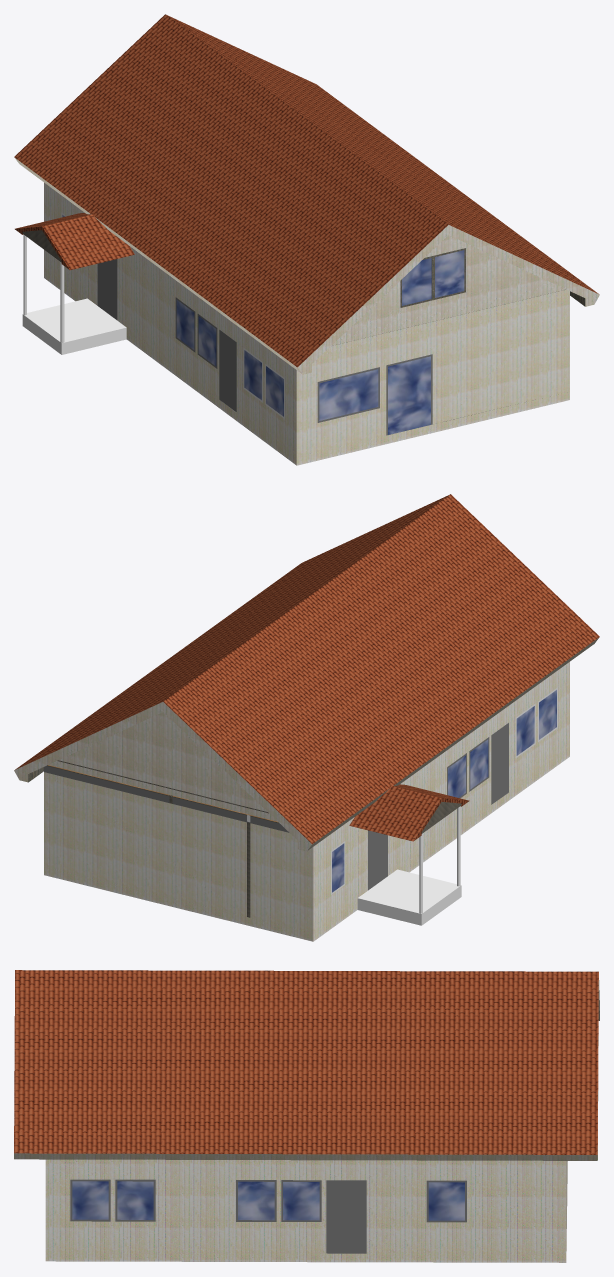
Rendered from huset.gltf.
3 renders of one model, top to bottom at view 1: azimuth 30°, elevation 25°; view 2: azimuth 150°, elevation 25°; view 3: azimuth 270°, elevation 25°, orthographic. The views are drawn at different scales.
Visible parts, largest first — view 1: huset, Component5; view 2: huset, Component5; view 3: huset.
Part boxes in pixels (bbox=[...]): huset: bbox=[14, 14, 599, 465]; Component5: bbox=[15, 213, 134, 354]; huset: bbox=[14, 494, 599, 941]; Component5: bbox=[349, 784, 469, 925]; huset: bbox=[14, 970, 599, 1262].
Bounding box in the file's own units: 10.78 × 6.41 × 15.23.
17 materials, 13 textured.
